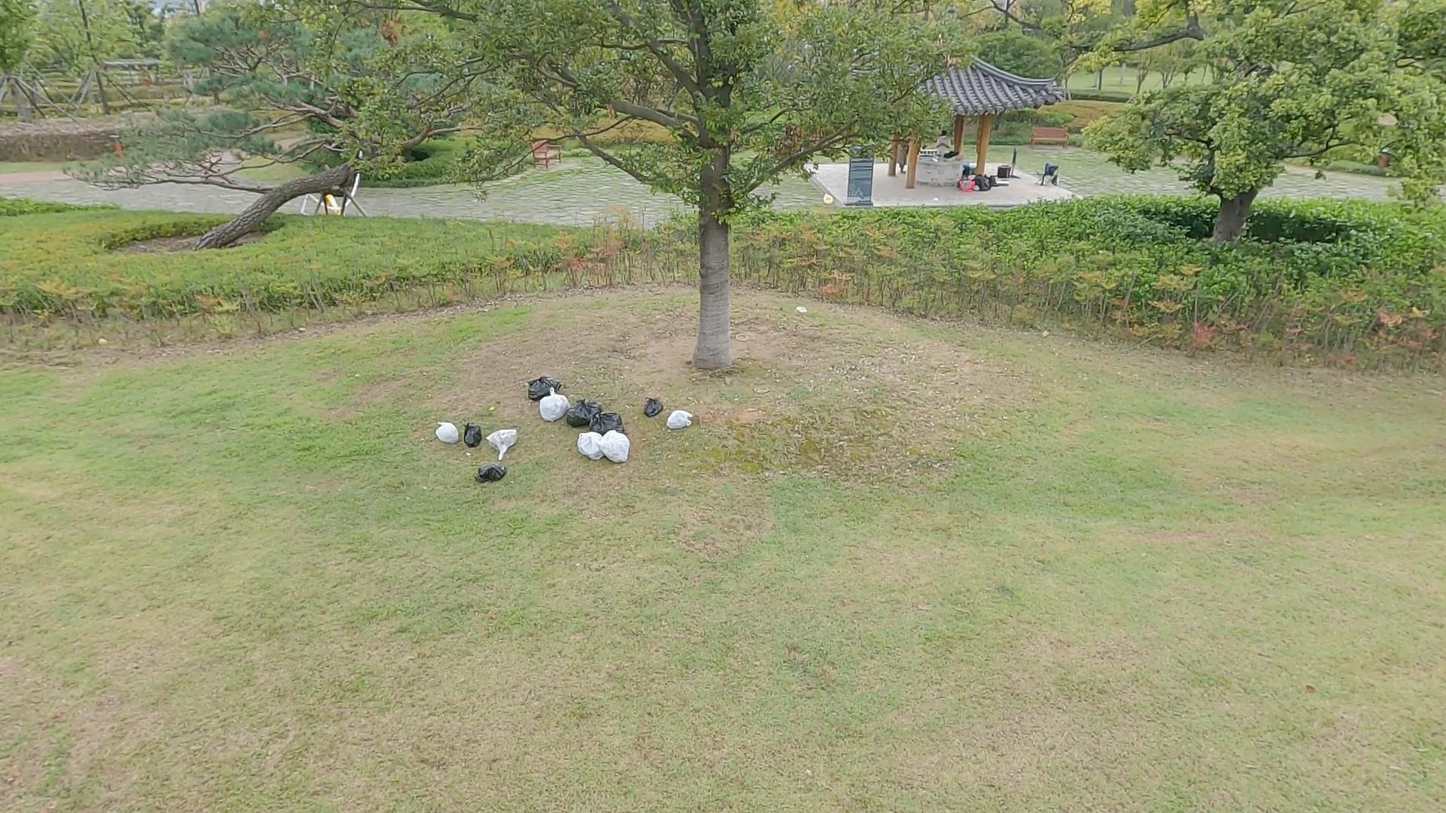trash: (599, 428, 633, 464), (590, 408, 626, 441), (565, 396, 603, 427), (485, 428, 520, 461), (578, 428, 612, 461), (539, 387, 570, 423), (526, 373, 562, 401), (664, 404, 695, 432), (474, 464, 510, 483), (435, 420, 460, 444), (463, 422, 483, 447), (643, 396, 665, 418)
